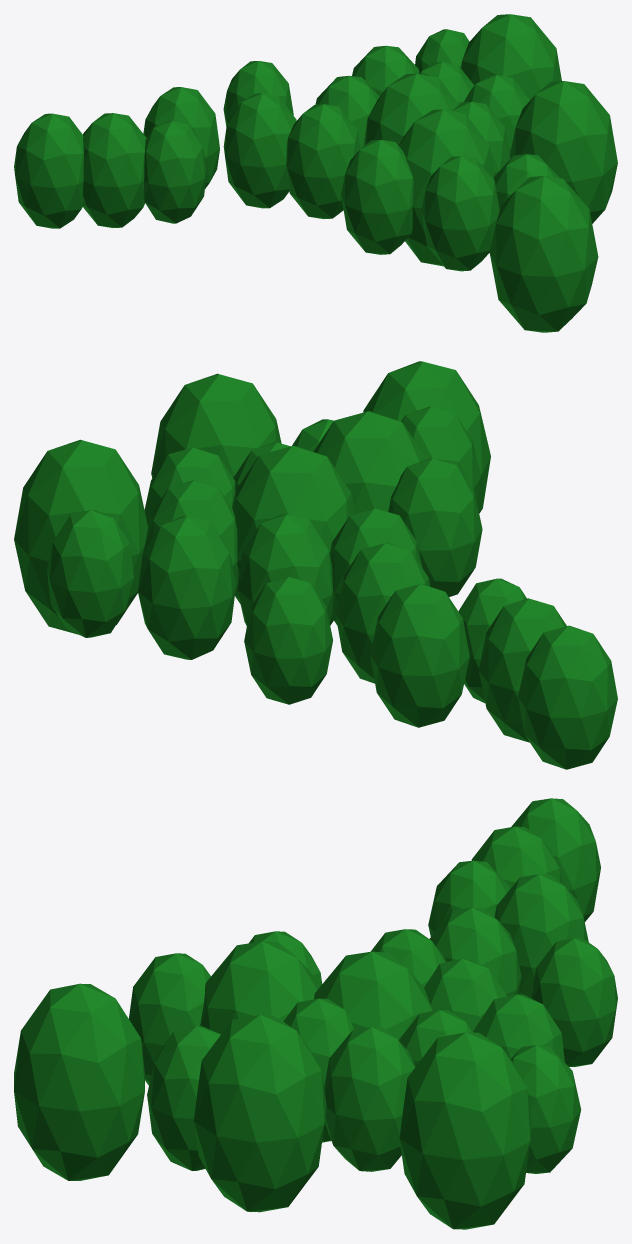
The model's file is blockout1.treecluster3.fbx.
3 views of the same model, one above another, from view 1: azimuth 30°, elevation 25°; view 2: azimuth 150°, elevation 25°; view 3: azimuth 270°, elevation 25° (orthographic). The views are drawn at different scales.
Visible parts, largest first — view 1: Icosphere.040; view 2: Icosphere.040; view 3: Icosphere.040.
Boxes of the visible parts, bbox=[...] form: Icosphere.040: bbox=[14, 14, 617, 332]; Icosphere.040: bbox=[14, 361, 617, 769]; Icosphere.040: bbox=[14, 798, 617, 1229].
Size of the model in its own units: 1784 by 597 by 1468.
